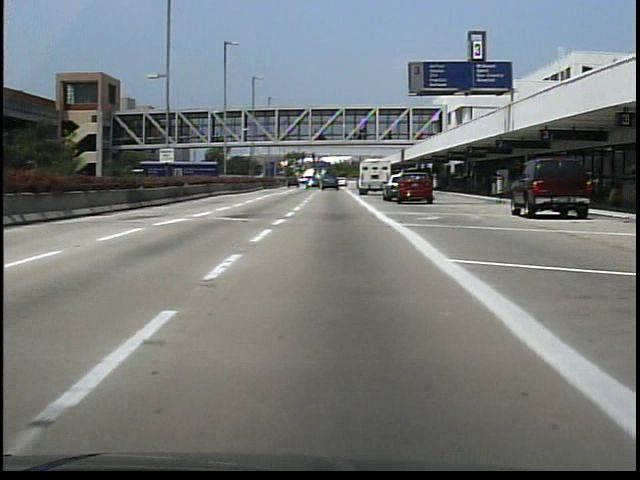person: (421, 172, 438, 204)
